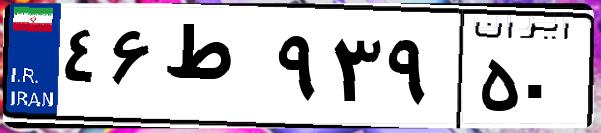0: (525, 38, 570, 115)
3: (330, 28, 385, 110)
4: (57, 26, 110, 100)
5: (475, 38, 525, 113)
6: (110, 28, 158, 98)
9: (270, 28, 330, 110), (385, 28, 445, 110)
ط: (158, 20, 270, 120)
